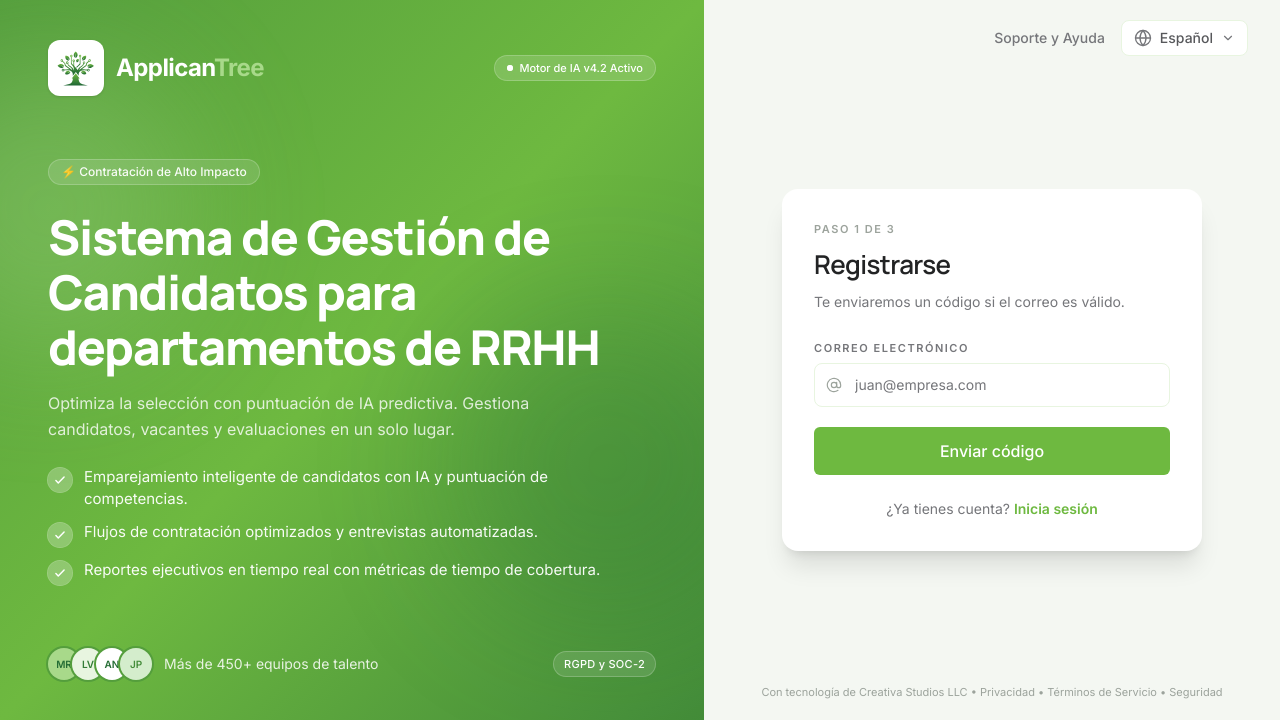
Test case: Registro con One-Time Password › muestra error genérico y no revela si el correo ya existe
Type "ya@existe.com" into the field with test id "auth-register-email" at (992, 385), box [814,363,1170,407]
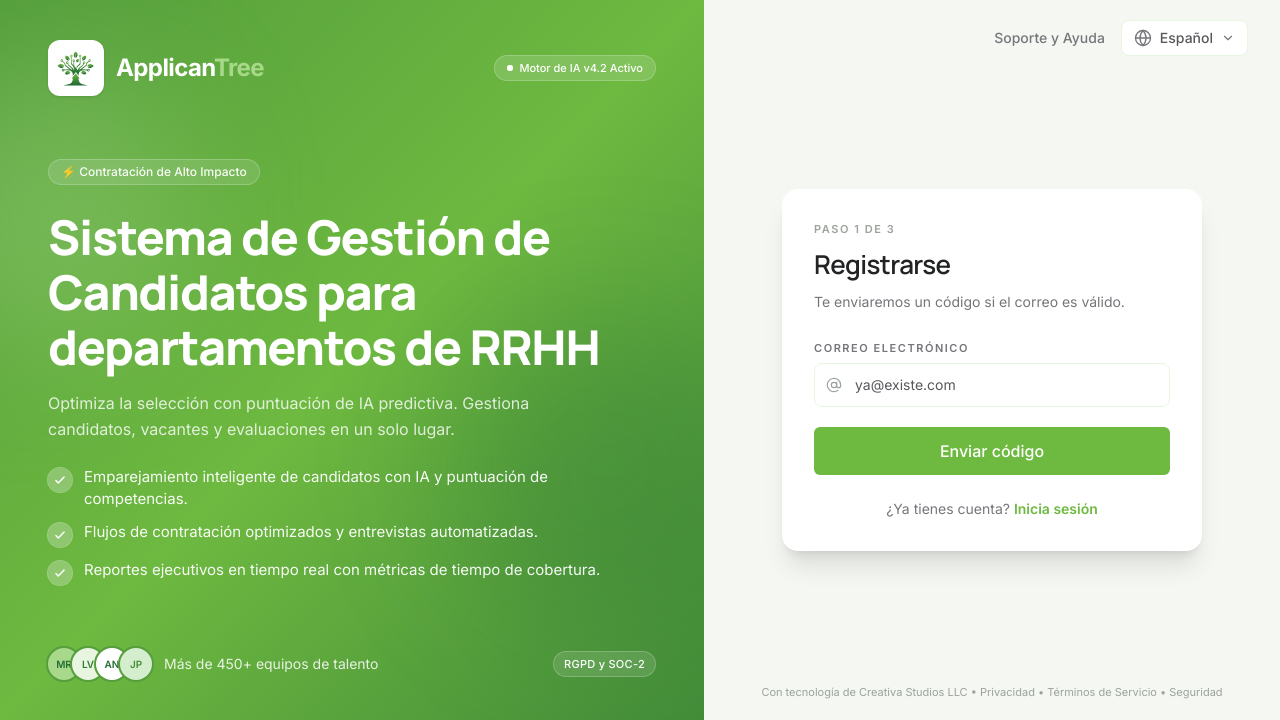
Submit the form with test id "auth-register-form", box [814,340,1170,475]
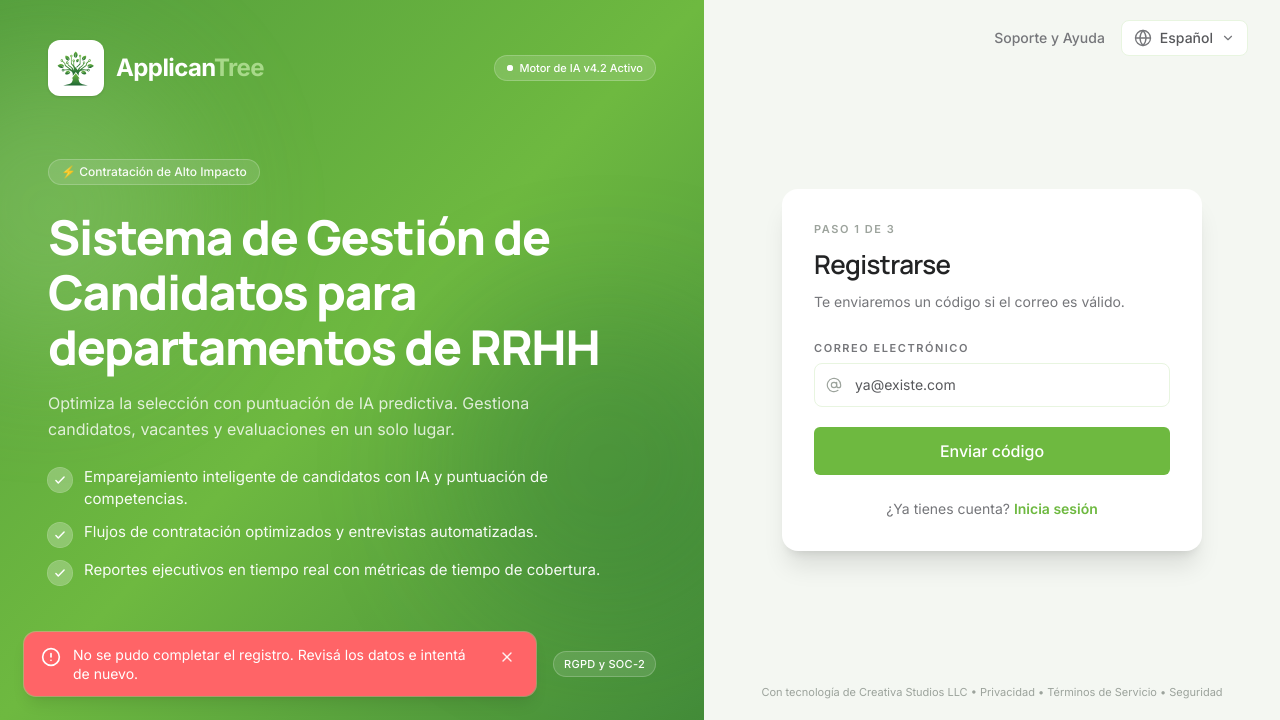
Expected: the message with test id "app-snackbar" does not show "ya está registrado", [24,632,536,696]
Expected: the message "No se pudo completar el registro. Revisá los datos e intentá de nuevo." is shown, [24,632,536,696]
Expected: the message with test id "app-snackbar" shows "No se pudo completar el registro", [73,646,466,682]
